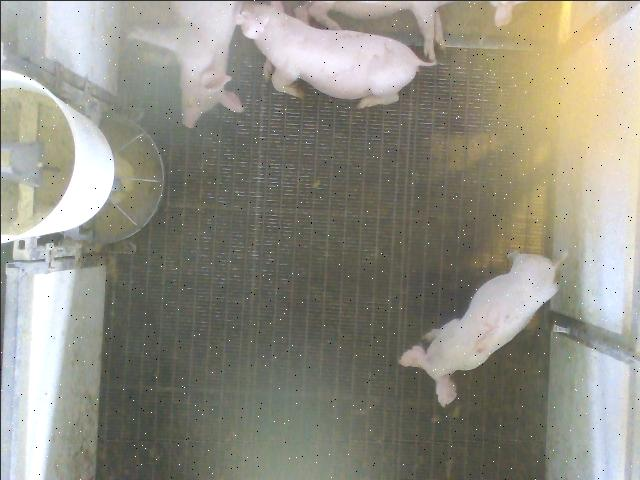pig-5: (398, 251, 558, 405)
